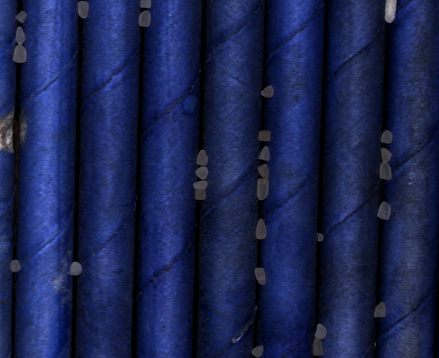broken_grain: (64, 258, 87, 279), (10, 44, 31, 66), (255, 177, 271, 202), (376, 201, 394, 222), (252, 266, 268, 288), (255, 217, 268, 243), (137, 8, 152, 30), (379, 145, 395, 165), (314, 321, 330, 340), (194, 146, 209, 166), (75, 1, 90, 20), (257, 144, 272, 163), (379, 126, 394, 145), (379, 161, 392, 182), (194, 164, 209, 182), (14, 25, 26, 46), (260, 84, 274, 99), (9, 257, 22, 273), (192, 179, 210, 190), (252, 344, 266, 358), (15, 10, 28, 23), (137, 1, 156, 9)
milky_broken_grain: (382, 1, 399, 26)
yellow_grain: (257, 162, 271, 180), (312, 336, 324, 357), (194, 188, 207, 202)
